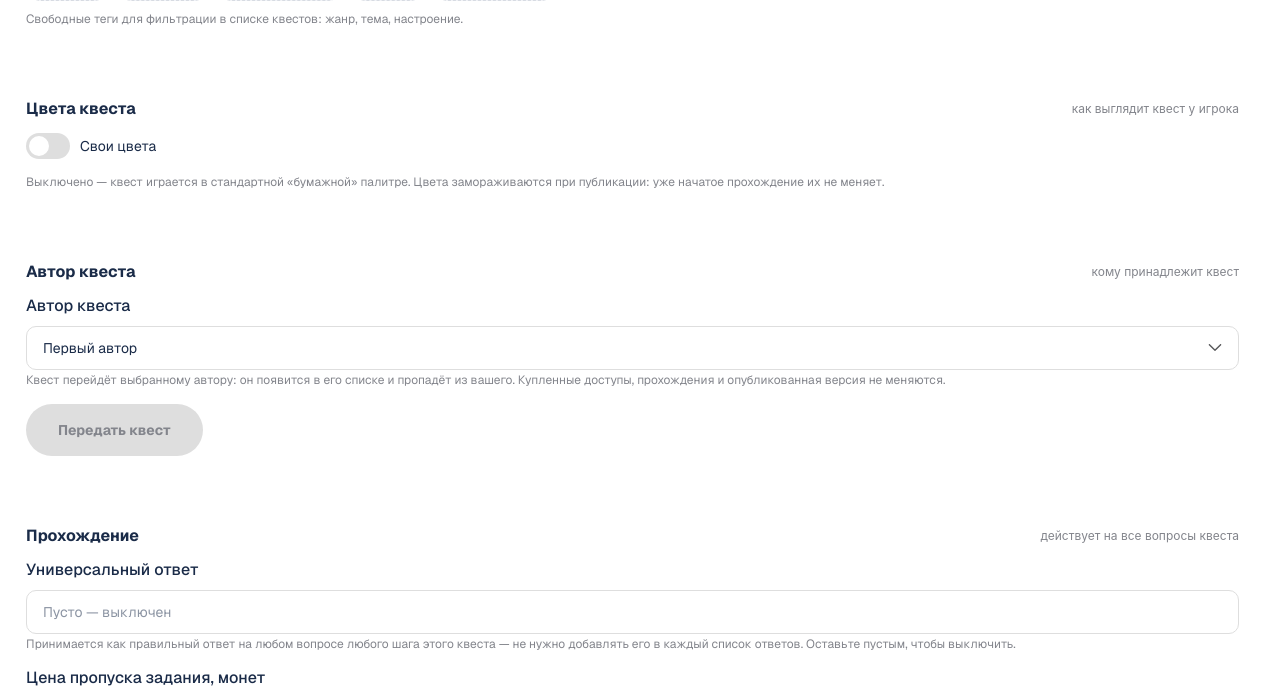
it: QuestSettings author transfer › reports a failed handover
(page scrolled)
Step 1. Select "Второй автор · админ" in the dropdown labelled "Автор квеста" → (632, 348), box [26,326,1239,370]
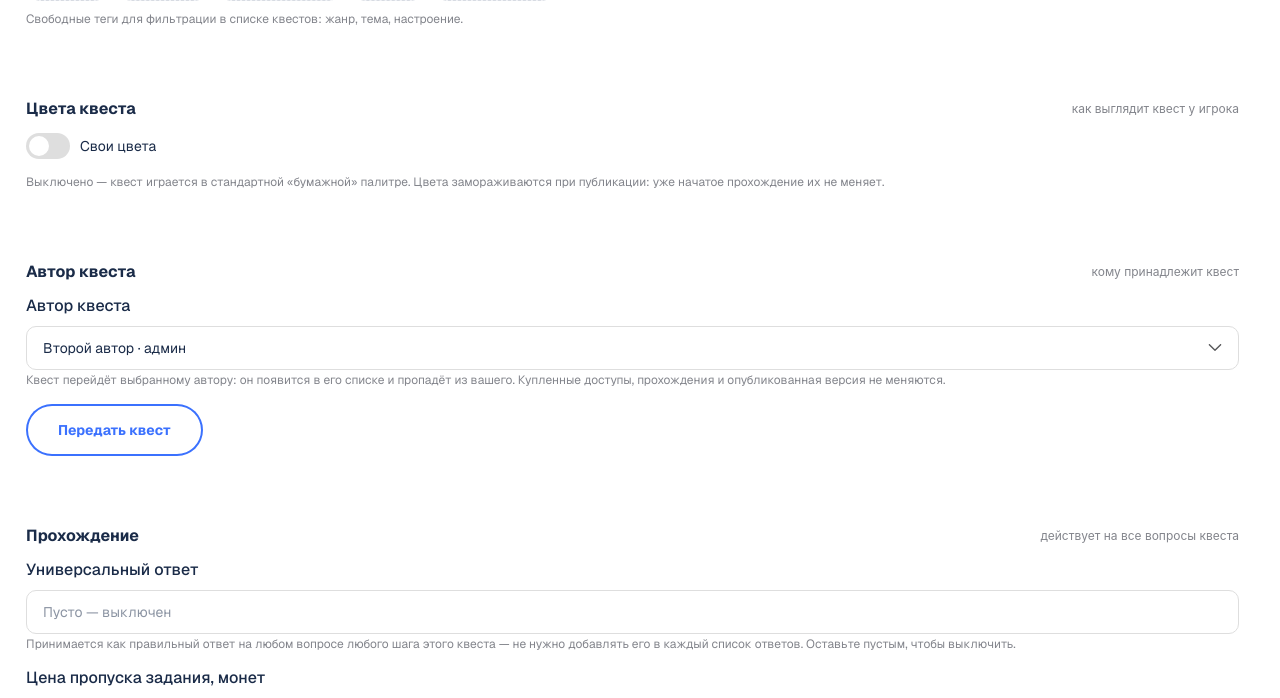
Step 2. Click the button "Передать квест" → (114, 430), box [26,404,203,456]
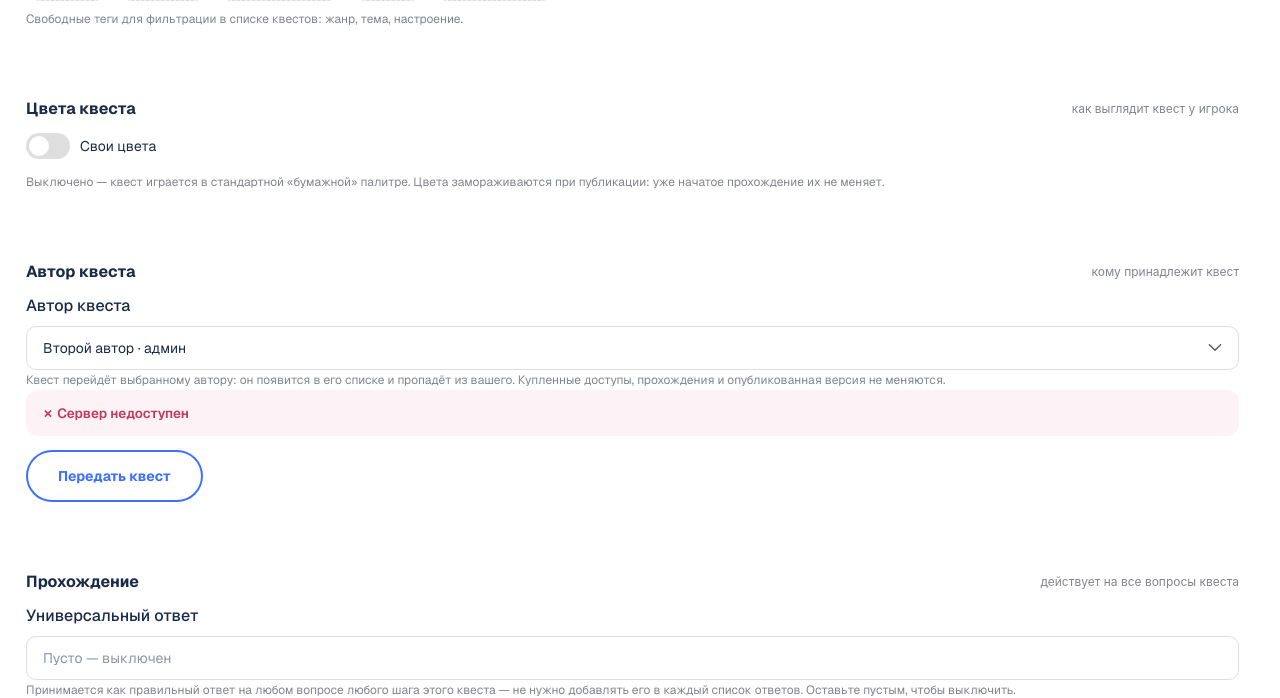
Now the text "✗ Сервер недоступен" is shown, box [26,390,1239,436]
